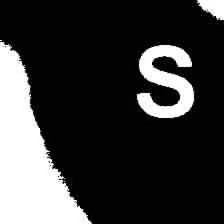LTR_S: (133, 35, 198, 121)
